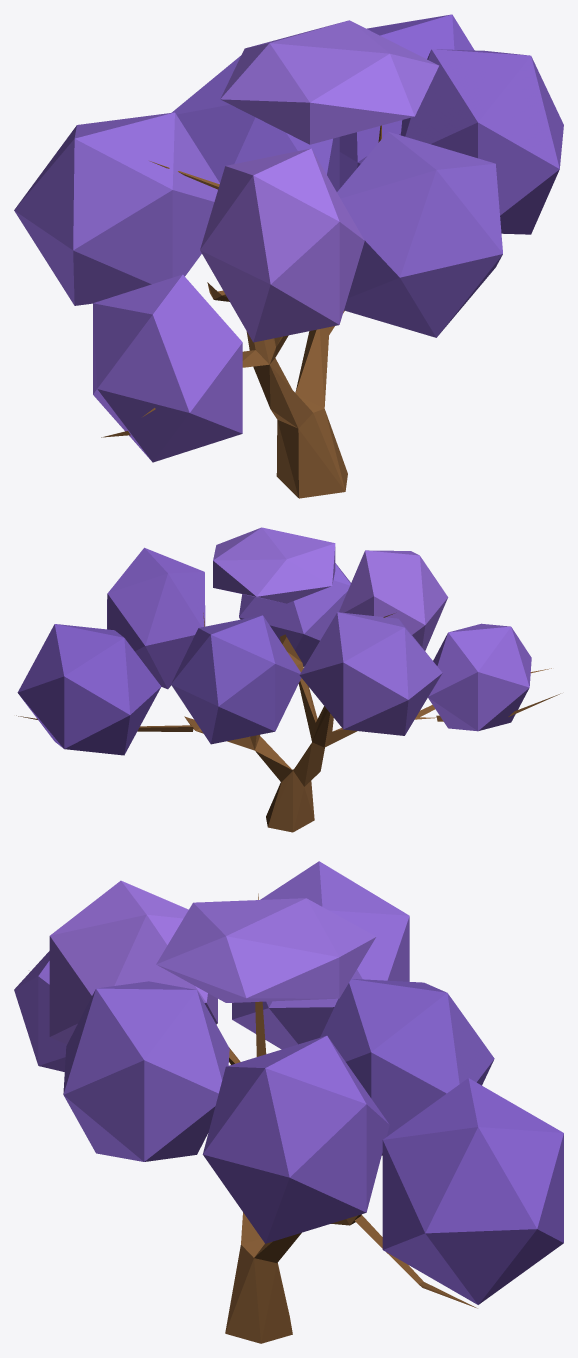
Rendered from jacaranda_1_bloom_far.glb.
3 views of the same model, one above another, from view 1: azimuth 30°, elevation 25°; view 2: azimuth 150°, elevation 25°; view 3: azimuth 270°, elevation 25° (orthographic). The views are drawn at different scales.
Parts seen in each view (by area): view 1: jacaranda_1_bloom_far; view 2: jacaranda_1_bloom_far; view 3: jacaranda_1_bloom_far.
Boxes of the visible parts, <box> form: jacaranda_1_bloom_far: <box>14,14,563,498</box>; jacaranda_1_bloom_far: <box>16,527,560,832</box>; jacaranda_1_bloom_far: <box>14,861,563,1343</box>.
Size of the model in its own units: 9.68 by 6.27 by 7.45.
